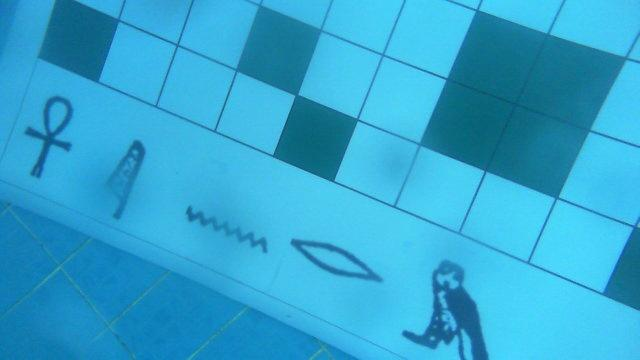Ankh: (25, 92, 75, 183)
Mouth: (289, 231, 386, 287)
Owl: (403, 252, 494, 360)
Reed: (101, 137, 146, 224)
Water: (178, 201, 269, 256)
